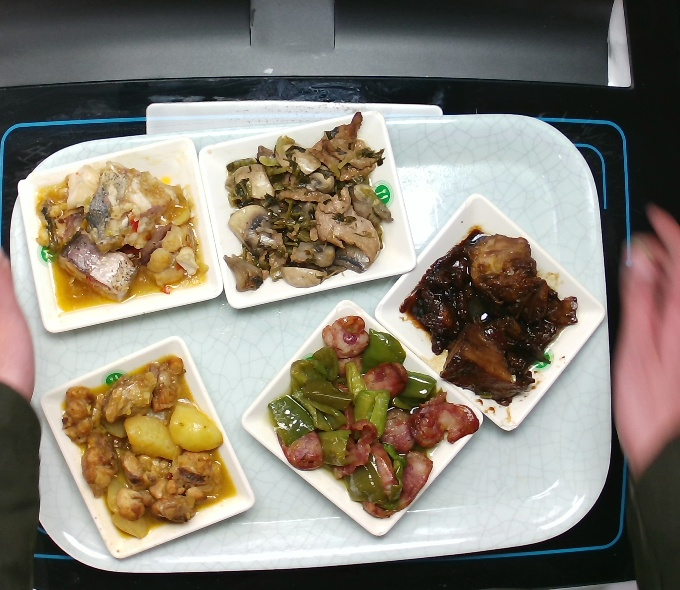wcq-JiangZhiYa: (398, 224, 579, 407)
wcq-MoGuRouPian: (224, 110, 396, 299)
wcq-QingJiaoXiangChang: (266, 314, 481, 522)
wcq-SuanCaiYu: (33, 161, 211, 313)
wcq-TuDouJiKuai: (58, 352, 238, 542)
